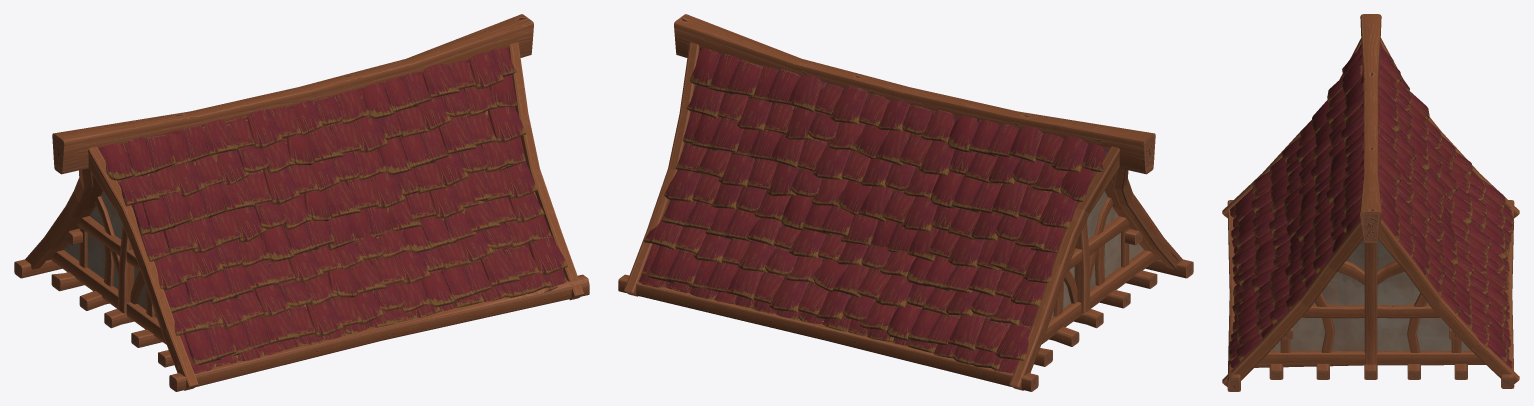
Rendered from SM_Roof.fbx.
3 views of the same model, side by side, from view 1: azimuth 30°, elevation 25°; view 2: azimuth 150°, elevation 25°; view 3: azimuth 270°, elevation 25° (orthographic). The views are drawn at different scales.
Visible parts, largest first — view 1: SM_Roof_LOD0; view 2: SM_Roof_LOD0; view 3: SM_Roof_LOD0.
Boxes of the visible parts, <box> form: SM_Roof_LOD0: <box>14,14,589,391</box>; SM_Roof_LOD0: <box>618,14,1193,391</box>; SM_Roof_LOD0: <box>1222,14,1519,391</box>.
Size of the model in its own units: 2197 by 1366 by 966.
Materials: 4 (4 with a texture image).
